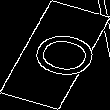O_E: (11, 25, 99, 85)
